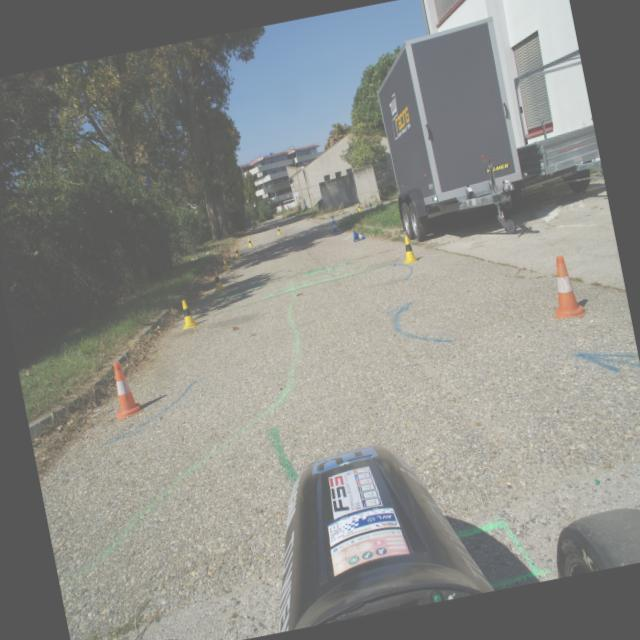blue_cone: (351, 228, 366, 242), (330, 220, 339, 233), (330, 215, 337, 226), (369, 202, 373, 208)
orange_cone: (542, 252, 589, 322), (106, 358, 144, 421)
yellow_cone: (176, 298, 198, 330), (398, 234, 418, 264), (212, 270, 226, 292), (221, 256, 231, 272), (233, 246, 242, 260), (247, 237, 254, 248), (275, 225, 282, 235), (356, 202, 362, 212)
